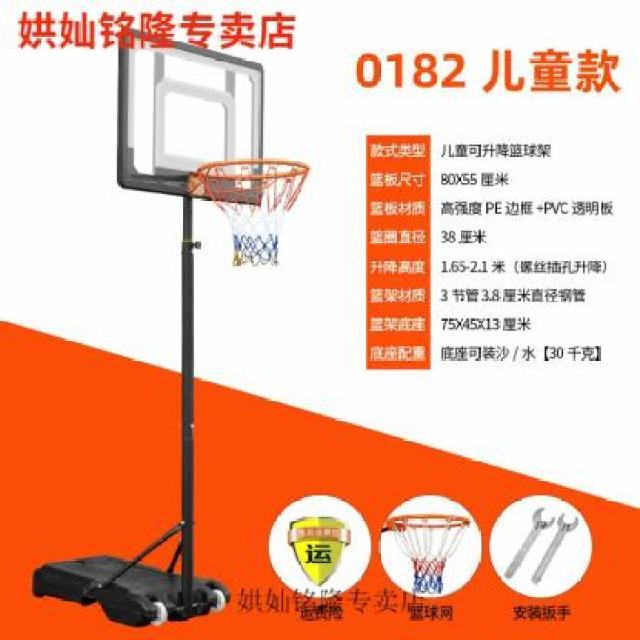rim: (196, 158, 310, 268), (387, 511, 469, 594)
